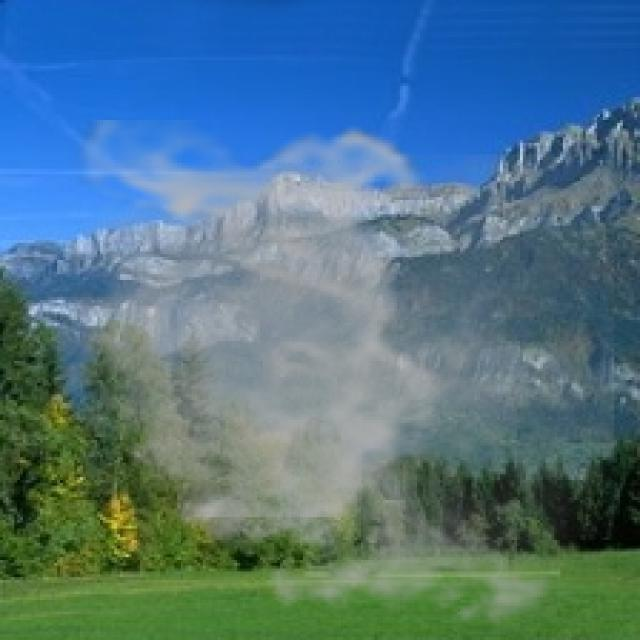smoke: (52, 120, 617, 637)
